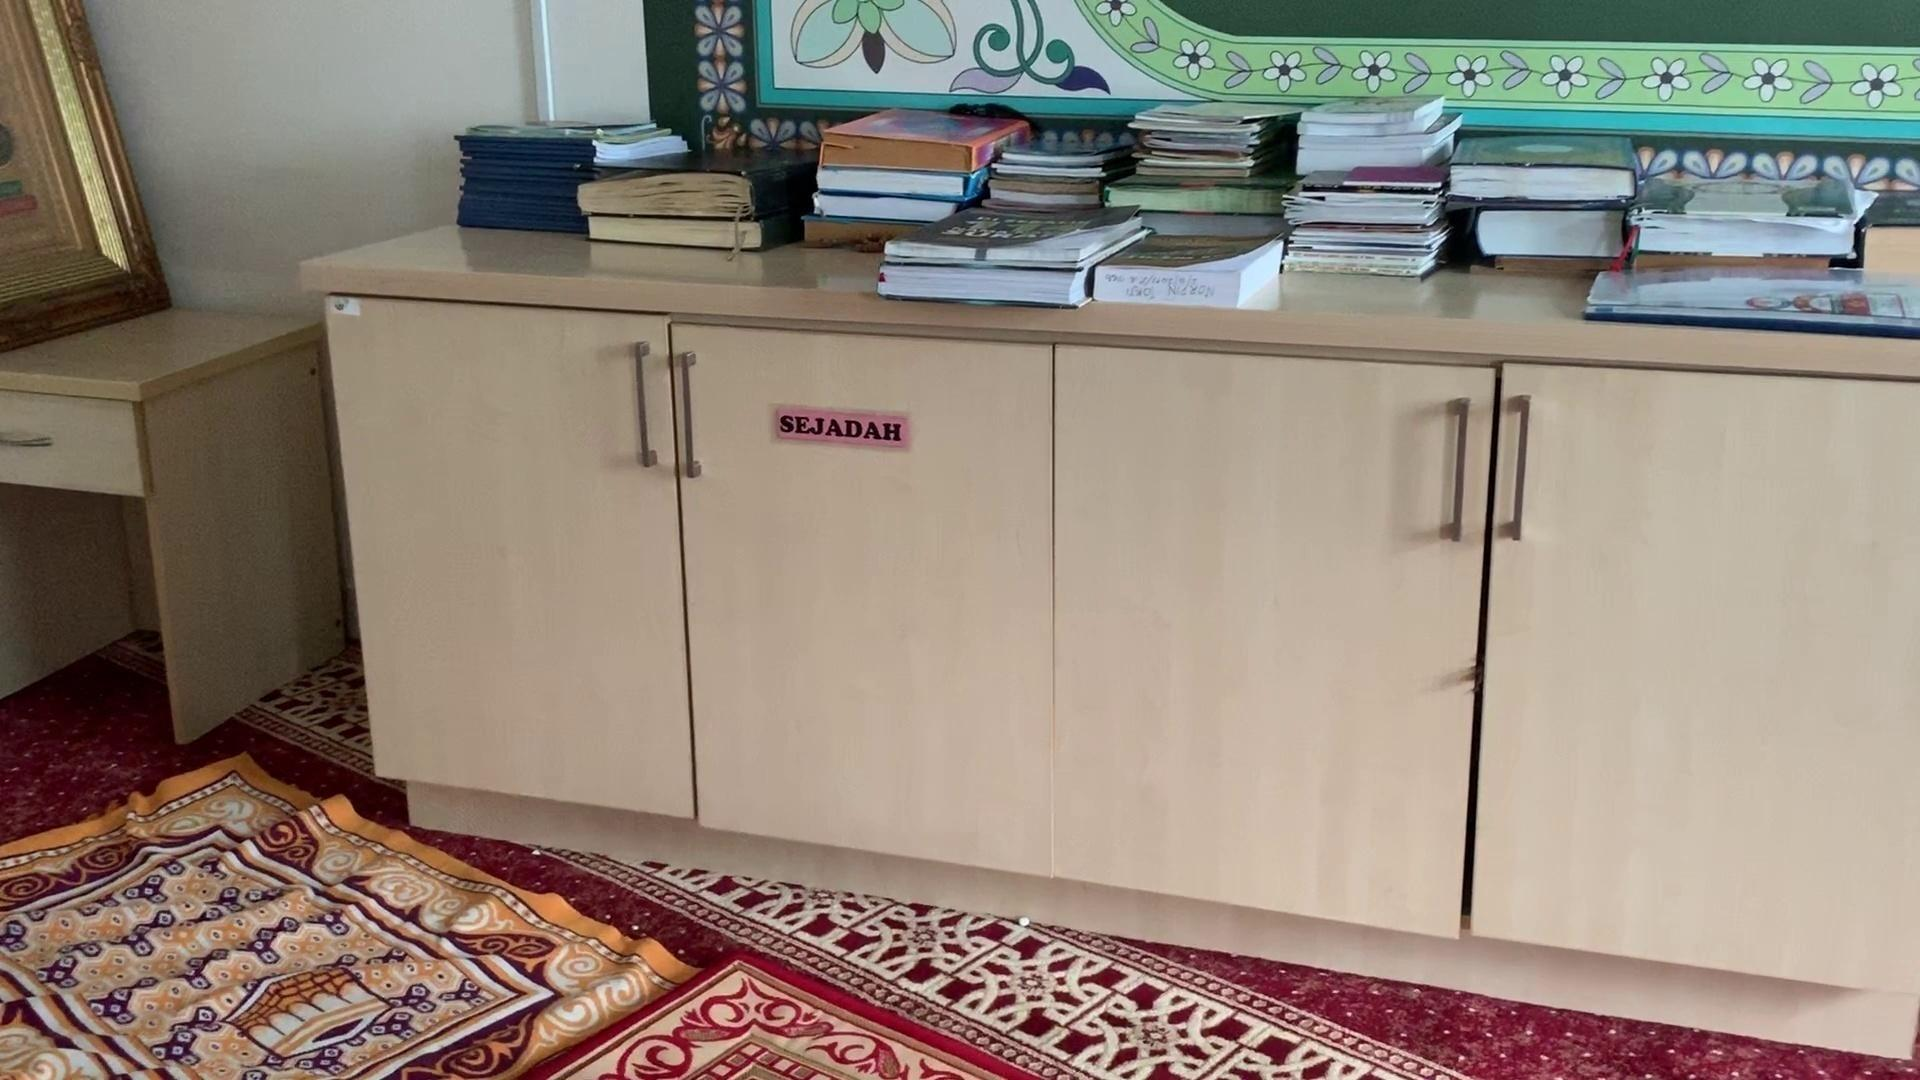cabinet_door: (1507, 375, 1920, 961), (1058, 355, 1477, 906), (676, 323, 1046, 855), (344, 316, 670, 786), (0, 393, 146, 491)
handle: (1431, 400, 1489, 550), (617, 339, 671, 476), (1493, 397, 1543, 545), (666, 345, 711, 479), (0, 423, 57, 455)
